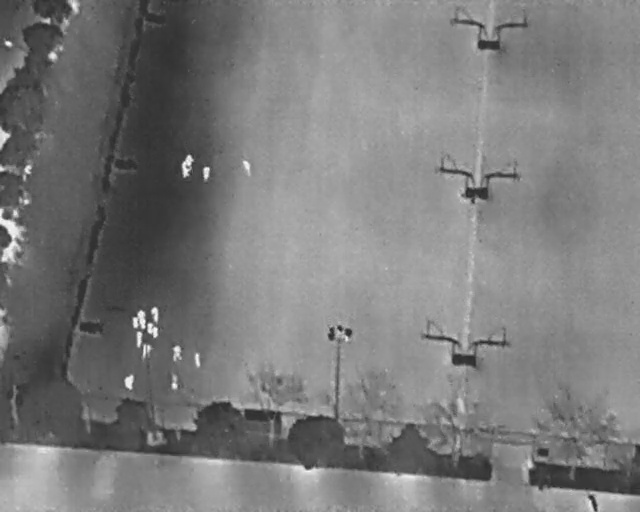Bicycle: (584, 491, 599, 511)
Person: (239, 157, 255, 177), (122, 373, 136, 392), (150, 302, 161, 324), (200, 164, 212, 184), (140, 343, 153, 361), (180, 162, 192, 180), (192, 351, 203, 369), (172, 344, 182, 363), (184, 153, 195, 169), (133, 331, 143, 348), (170, 373, 179, 391), (138, 319, 147, 331), (146, 322, 154, 335), (151, 326, 159, 339), (137, 310, 146, 320), (131, 317, 139, 328)
